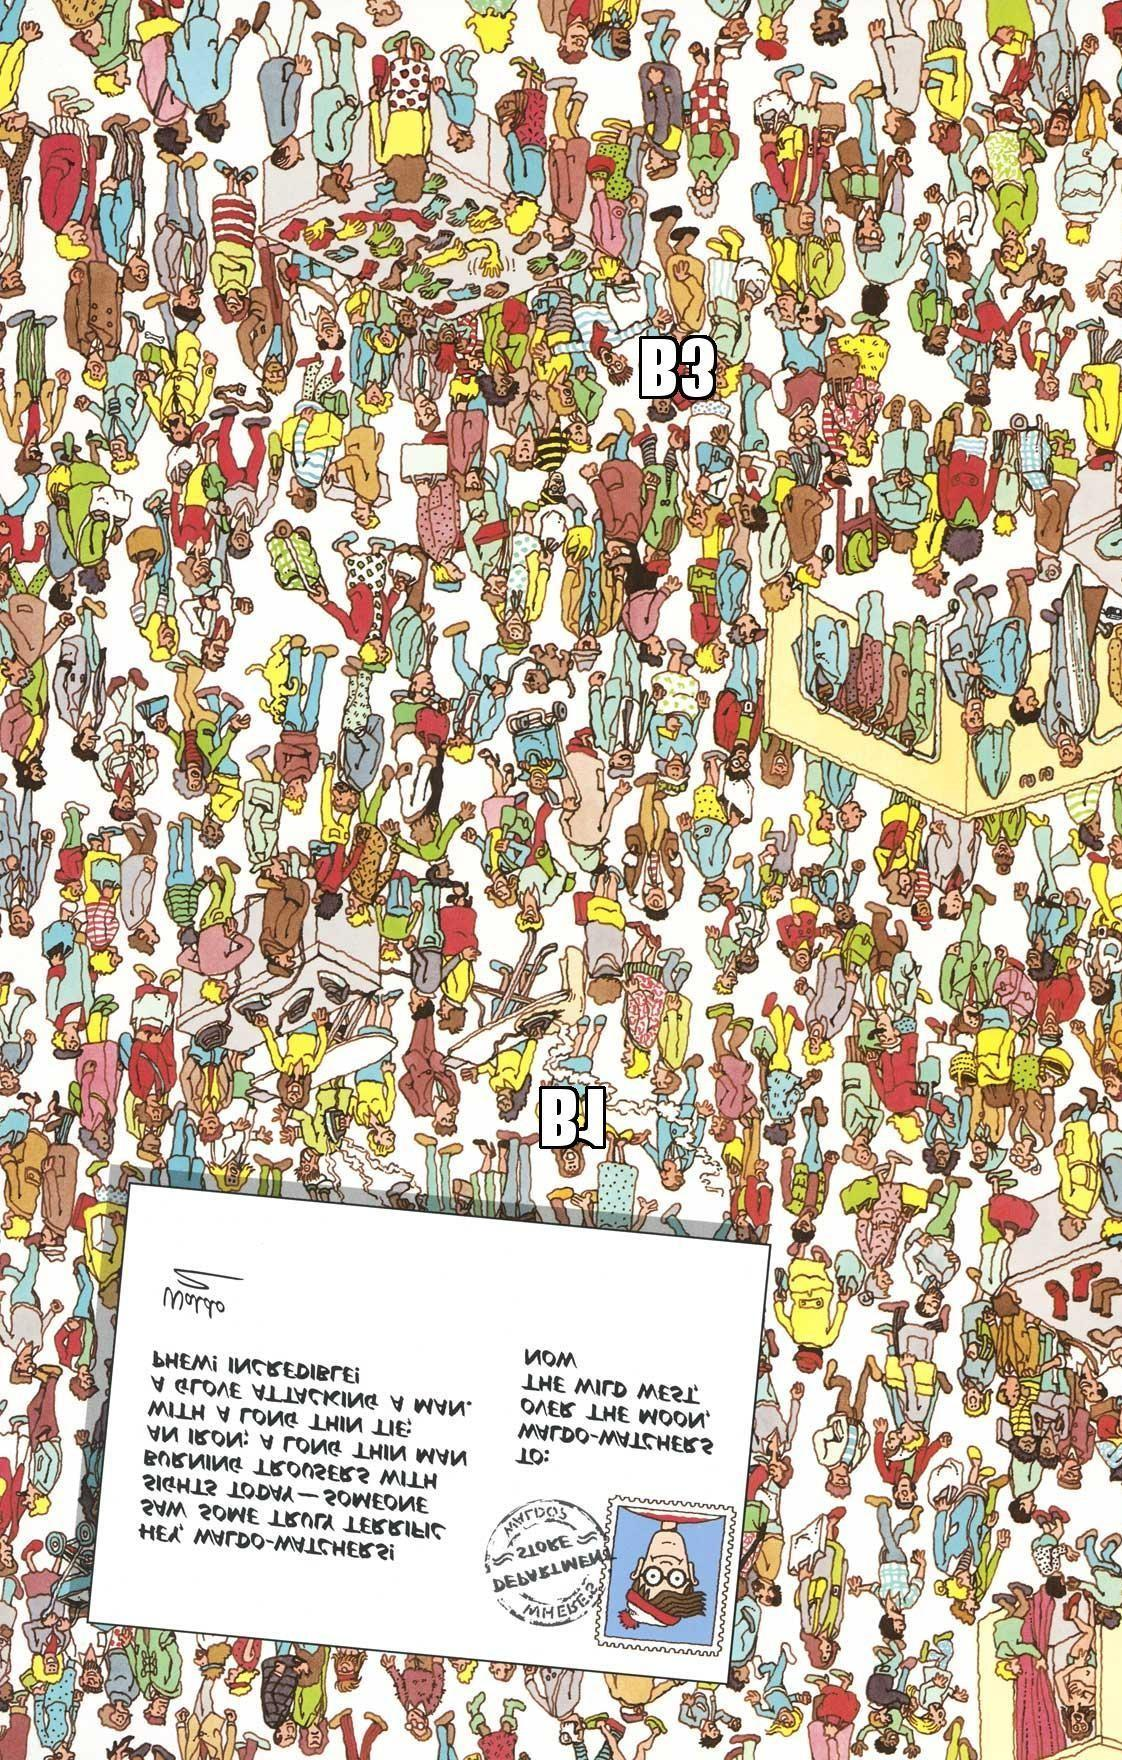waldos: (615, 1507, 727, 1637)
